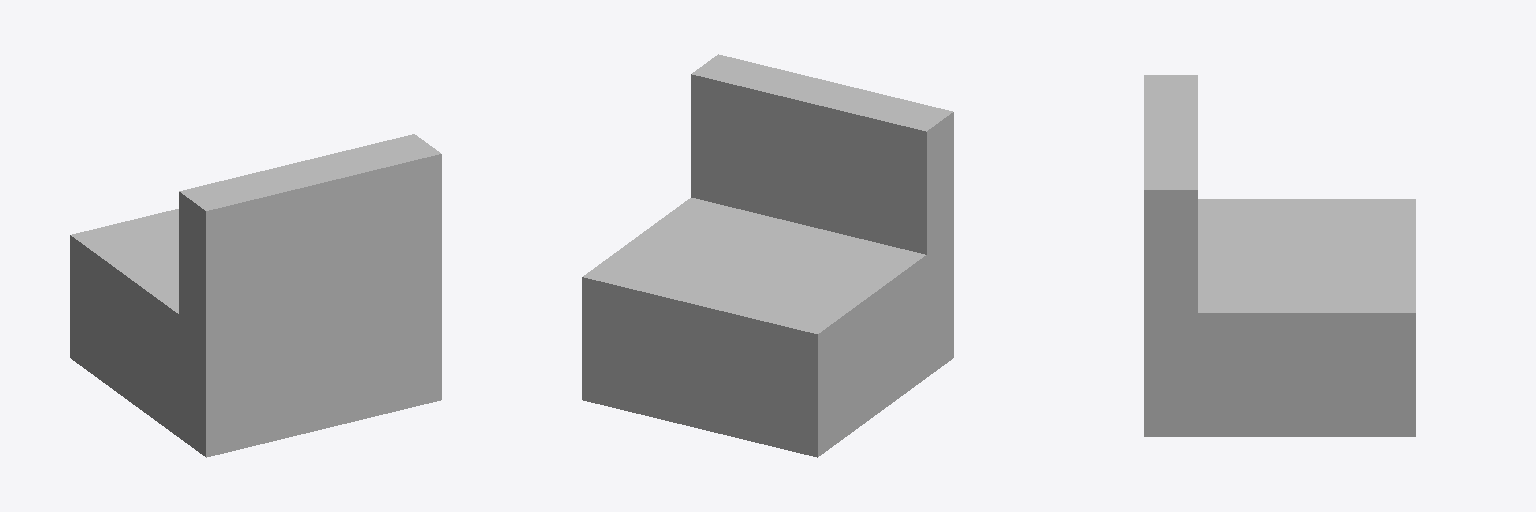
The model's file is Ledge_Block__LRG_G.obj.
3 views of the same model, side by side, from view 1: azimuth 30°, elevation 25°; view 2: azimuth 150°, elevation 25°; view 3: azimuth 270°, elevation 25° (orthographic).
Parts seen in each view (by area): view 1: Ledge_Block__LRG_G; view 2: Ledge_Block__LRG_G; view 3: Ledge_Block__LRG_G.
Part boxes in pixels (left/top/right/bottom): Ledge_Block__LRG_G: left=70, top=134, right=441, bottom=457; Ledge_Block__LRG_G: left=582, top=54, right=953, bottom=457; Ledge_Block__LRG_G: left=1144, top=75, right=1415, bottom=436.
Size of the model in its own units: 10 by 10 by 10.